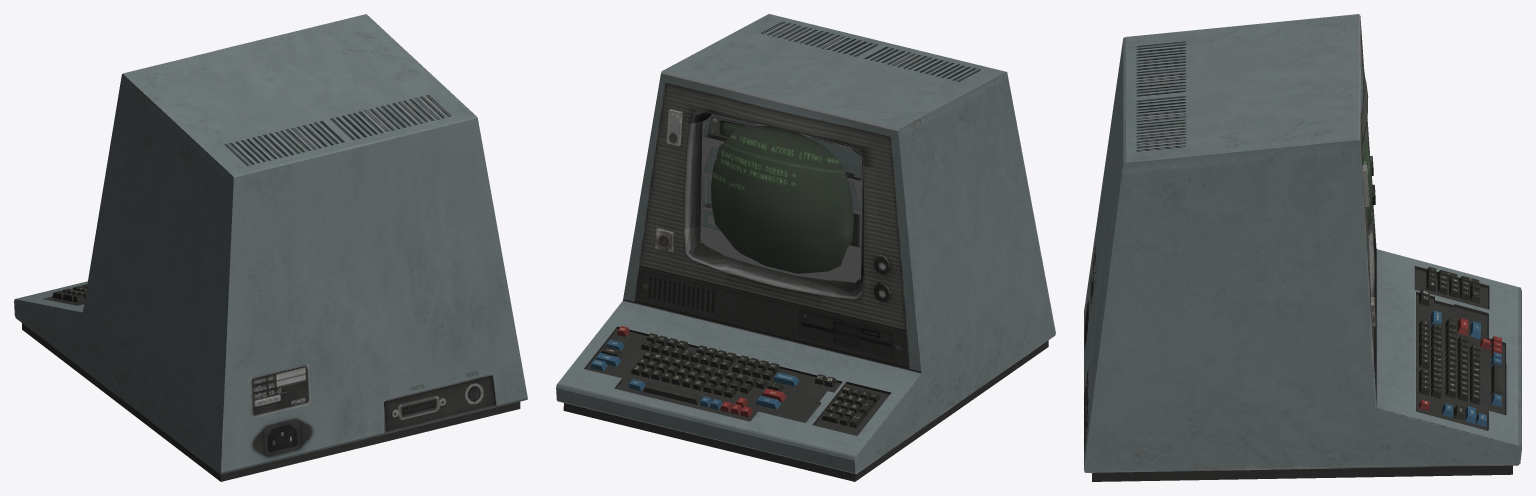
Rendered from Computer.glb.
3 renders of one model, left to right at view 1: azimuth 30°, elevation 25°; view 2: azimuth 150°, elevation 25°; view 3: azimuth 270°, elevation 25°, orthographic. The views are drawn at different scales.
Parts seen in each view (by area): view 1: Computer; view 2: Computer, Screen-Template, Screen; view 3: Computer, Screen-Template.
Boxes of the visible parts, <box> form: Computer: <box>14,14,527,481</box>; Computer: <box>556,14,1055,481</box>; Screen-Template: <box>711,126,863,274</box>; Screen: <box>700,114,862,282</box>; Computer: <box>1084,14,1521,481</box>; Screen-Template: <box>1362,136,1372,230</box>.
Bounding box in the file's own units: 1.09 × 1.05 × 1.27.
2 materials, 2 textured.
